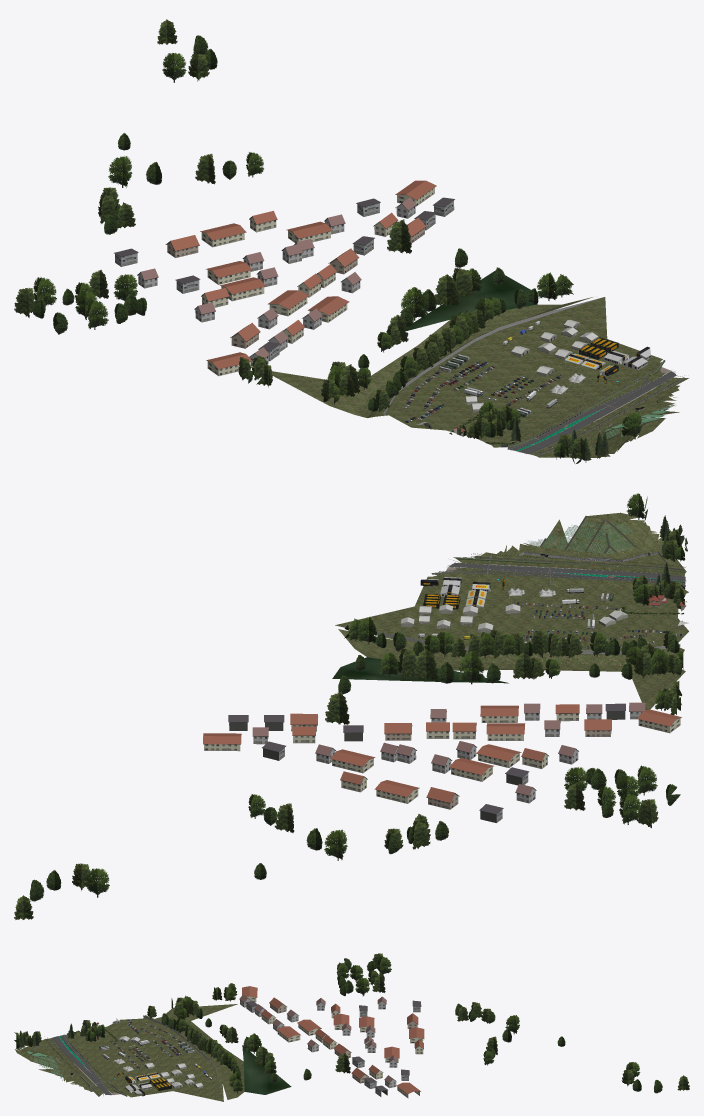
3 renders of one model, top to bottom at view 1: azimuth 30°, elevation 25°; view 2: azimuth 150°, elevation 25°; view 3: azimuth 270°, elevation 25°, orthographic. The views are drawn at different scales.
Visible parts, largest first — view 1: tile_t14; view 2: tile_t14; view 3: tile_t14.
Boxes of the visible parts, x1,y1,x2,y2 form: tile_t14: [14, 19, 688, 463]; tile_t14: [14, 493, 688, 919]; tile_t14: [14, 953, 689, 1101].
Bounding box in the file's own units: 498 × 57.02 × 1047.
41 materials, 41 textured.
